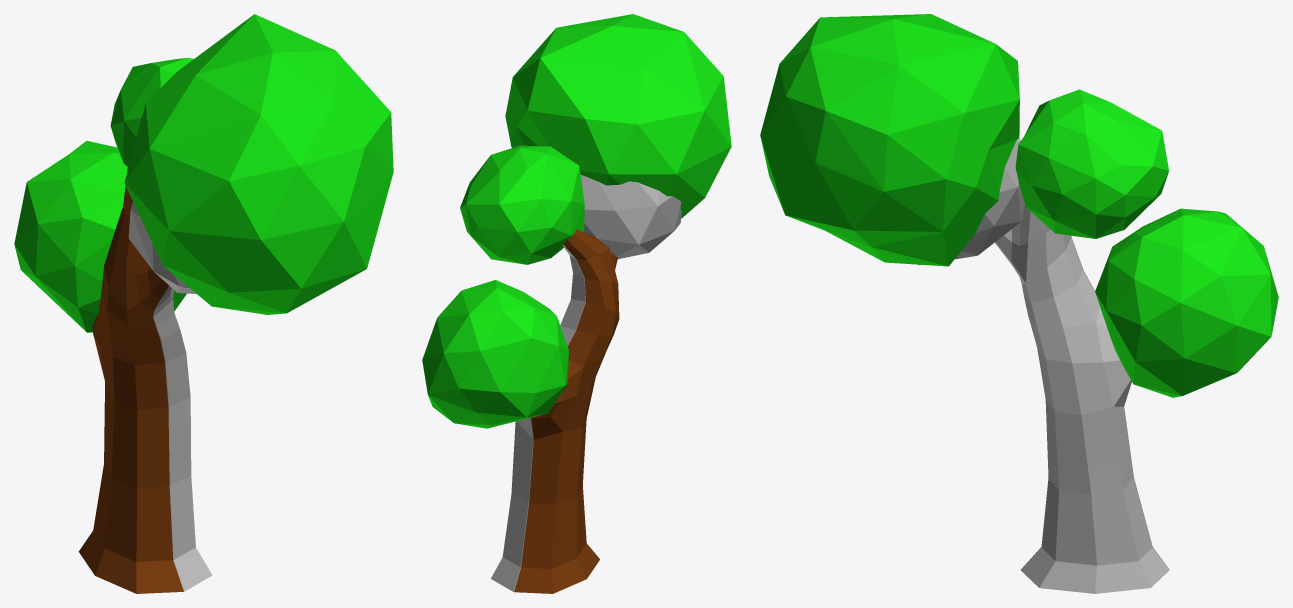
File: Tree1BC.fbx
3 views of the same model, side by side, from view 1: azimuth 30°, elevation 25°; view 2: azimuth 150°, elevation 25°; view 3: azimuth 270°, elevation 25° (orthographic). The views are drawn at different scales.
Parts seen in each view (by area): view 1: Leaves, Tree_1, Tree1B; view 2: Leaves, Tree_1, Tree1B; view 3: Leaves, Tree1B.
Part boxes in pixels (x1=…): Leaves: x1=14, y1=14, x2=393, y2=332; Tree_1: x1=78, y1=168, x2=183, y2=593; Tree1B: x1=153, y1=286, x2=212, y2=591; Leaves: x1=422, y1=14, x2=731, y2=428; Tree_1: x1=514, y1=229, x2=619, y2=593; Tree1B: x1=491, y1=244, x2=585, y2=591; Leaves: x1=760, y1=14, x2=1278, y2=397; Tree1B: x1=995, y1=204, x2=1169, y2=593.
Bounding box in the file's own units: 486 × 1180 × 987.
